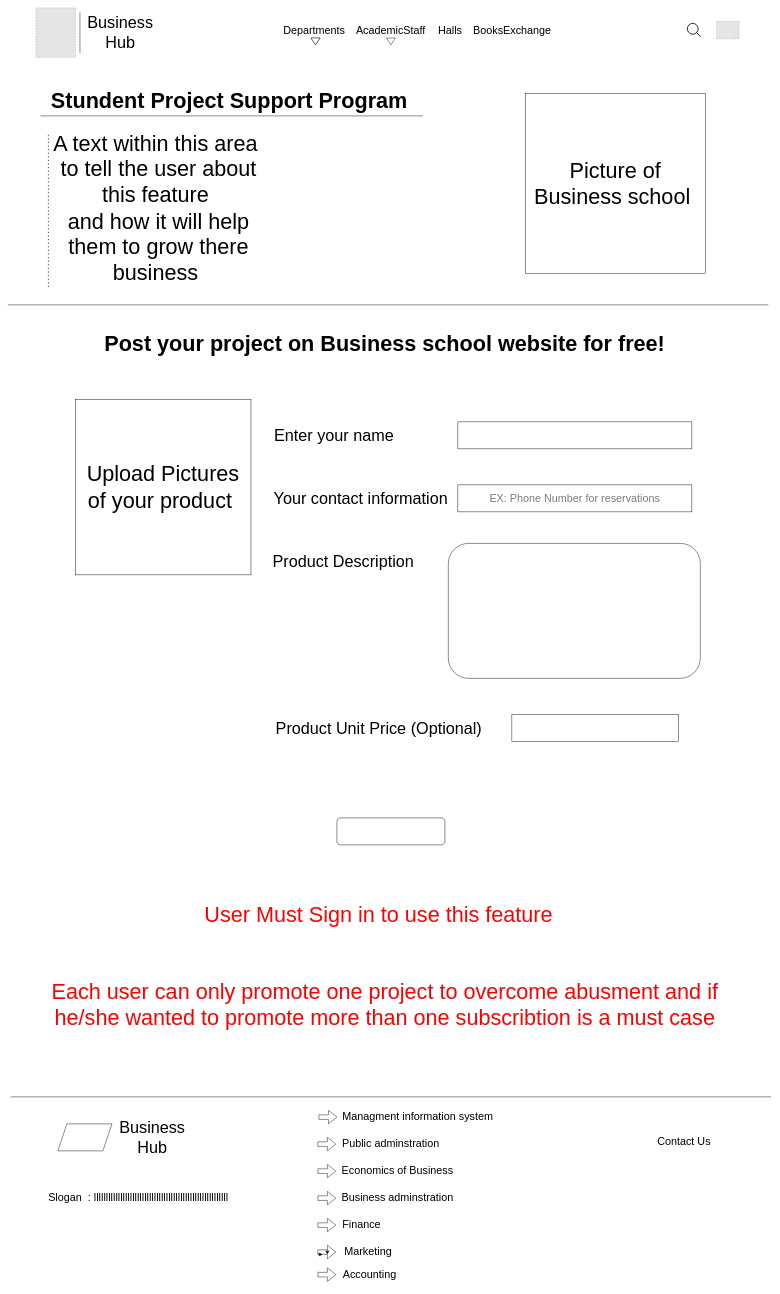
This 780x1294 diagram has some shape labels left out. Grey dashed boxes stand in for pictures. The shapes that lost their labels are listed below. From the top down, each one's centre as x and y in pixels, then its label:
point (390, 831): Submit for apporval
point (84, 1137): Logo
